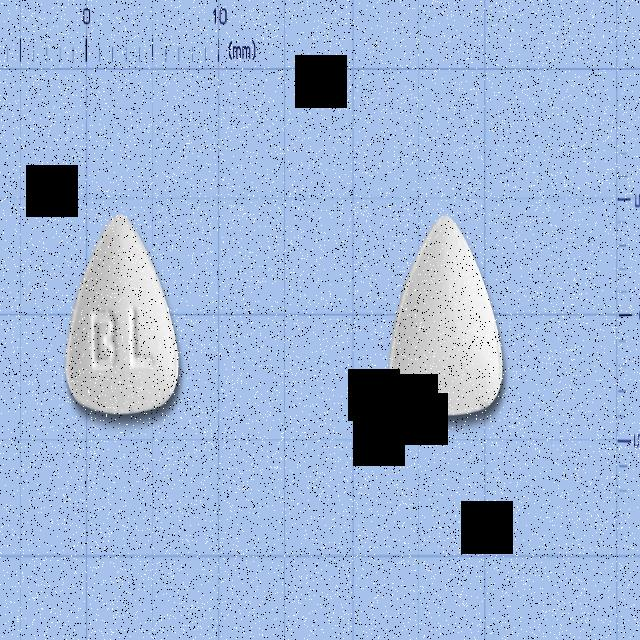Baracle -1mg: (62, 212, 183, 420)
